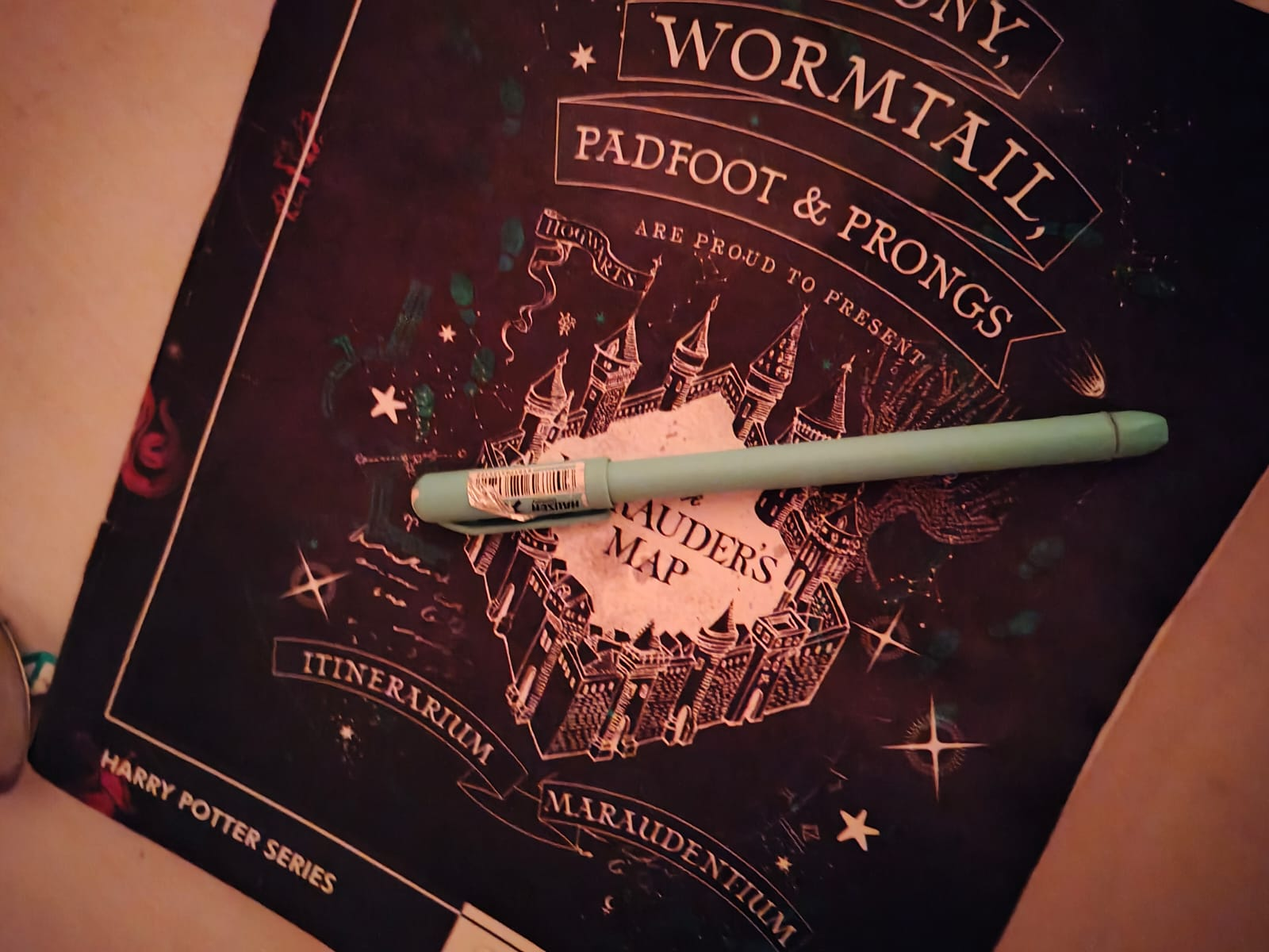pen: (402, 397, 1174, 541)
